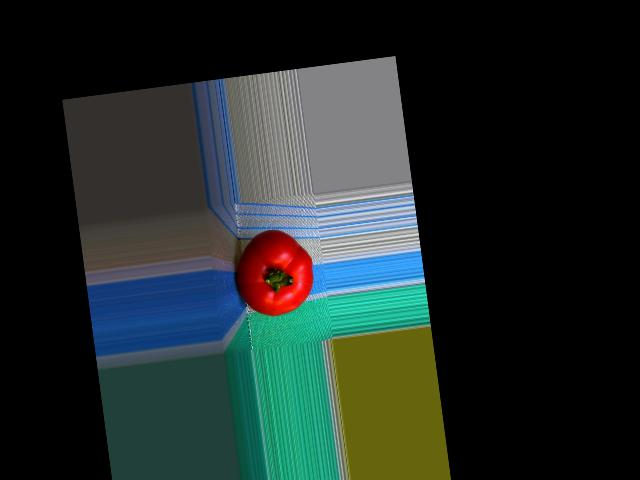tomato: (230, 226, 318, 320)
